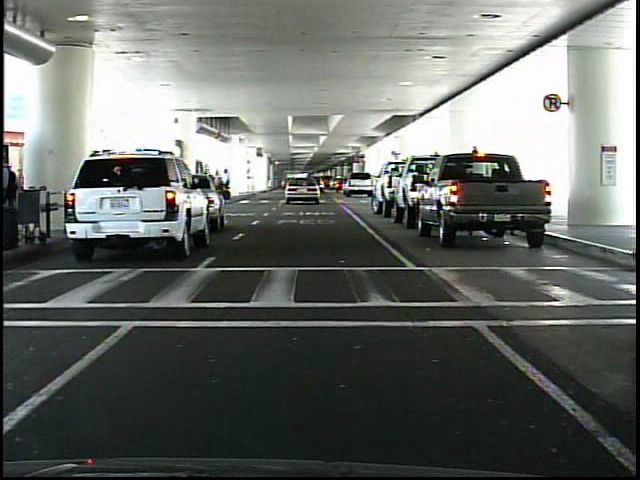person: (5, 150, 23, 258)
